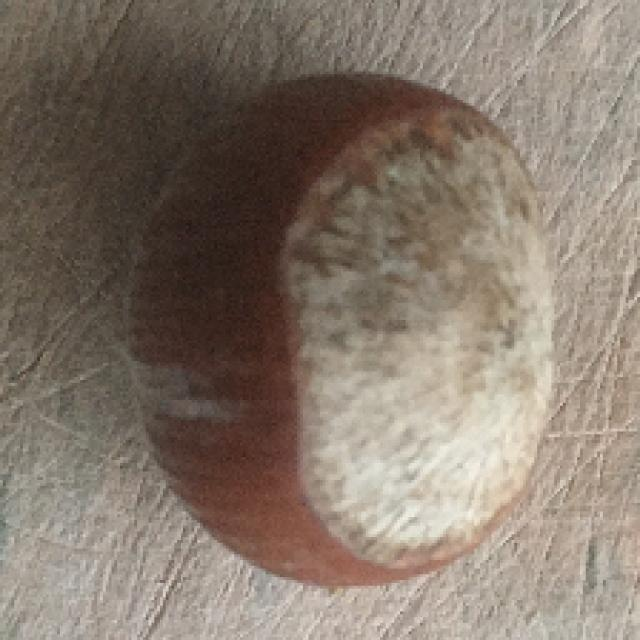qualityHazelnut: (116, 64, 568, 594)
